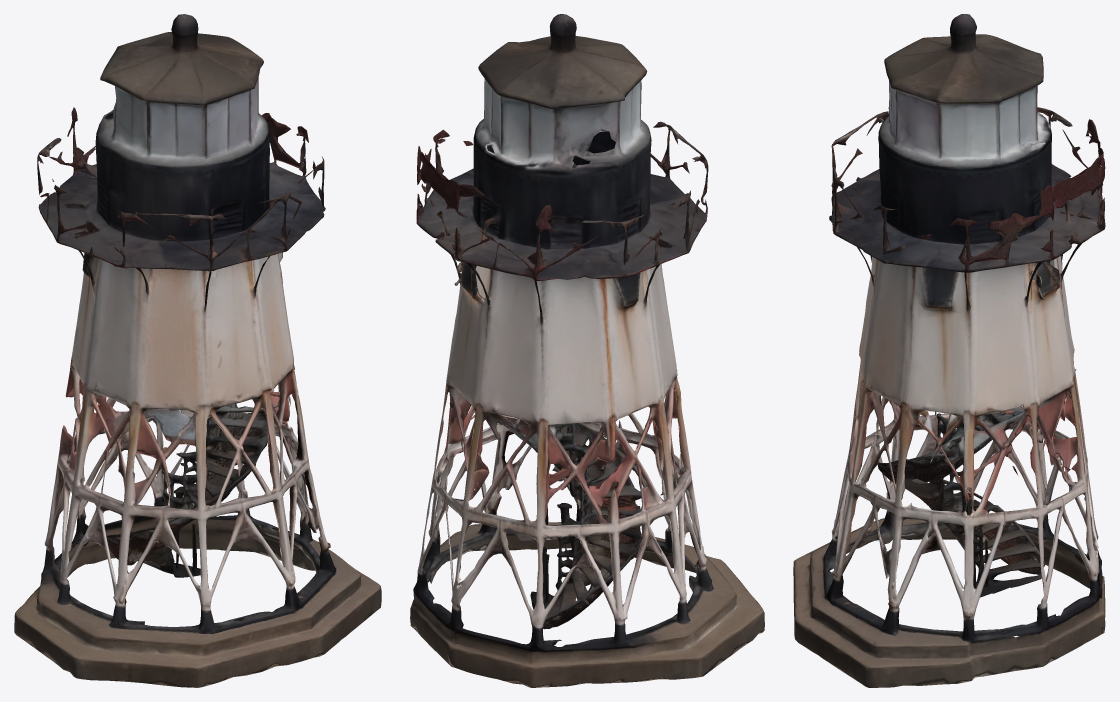
File: world.glb
3 views of the same model, side by side, from view 1: azimuth 30°, elevation 25°; view 2: azimuth 150°, elevation 25°; view 3: azimuth 270°, elevation 25° (orthographic). The views are drawn at different scales.
Visible parts, largest first — view 1: world; view 2: world; view 3: world.
Part boxes in pixels (left/top/right/bottom): world: left=14, top=14, right=381, bottom=687; world: left=410, top=14, right=764, bottom=687; world: left=793, top=14, right=1105, bottom=687.
Size of the model in its own units: 0.5347 by 1 by 0.4711.
Materials: 1 (1 with a texture image).
